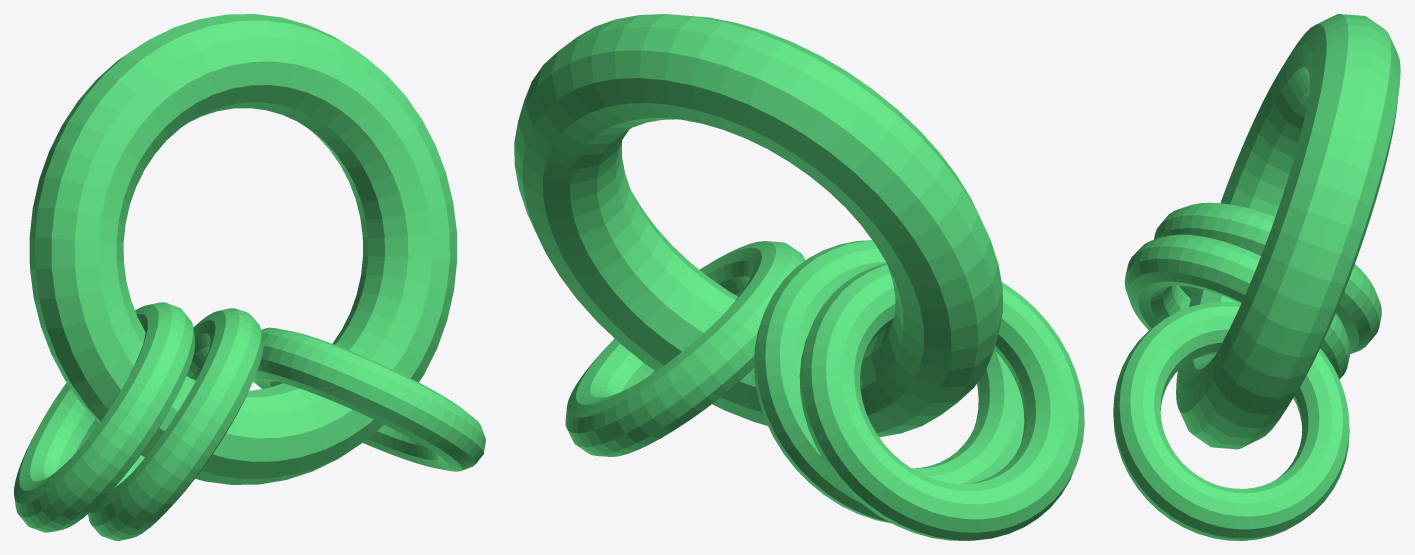
File: catToy.fbx
The picture shows the model from 3 angles, left to right: view 1: azimuth 30°, elevation 25°; view 2: azimuth 150°, elevation 25°; view 3: azimuth 270°, elevation 25°; orthographic projection. The views are drawn at different scales.
Parts seen in each view (by area): view 1: CatToy; view 2: CatToy; view 3: CatToy.
Part boxes in pixels (left/top/right/bottom): CatToy: left=14, top=14, right=485, bottom=540; CatToy: left=514, top=14, right=1084, bottom=540; CatToy: left=1113, top=14, right=1400, bottom=540.
Size of the model in its own units: 273 by 256 by 157.
